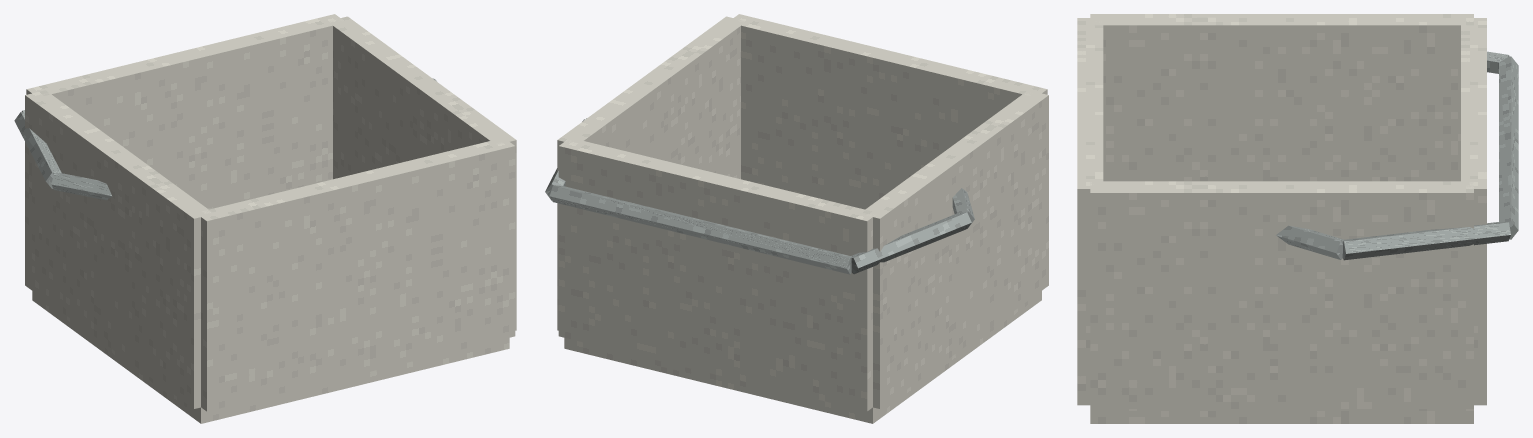
Rendered from plastic_bucket.glb.
3 views of the same model, side by side, from view 1: azimuth 30°, elevation 25°; view 2: azimuth 150°, elevation 25°; view 3: azimuth 270°, elevation 25° (orthographic). The views are drawn at different scales.
Parts seen in each view (by area): view 1: block_side wall (×2), block_end wall (×2), block_flat bottom, block_swing handle 1, block_swing handle 0; view 2: block_side wall (×2), block_end wall (×2), block_swing handle 2, block_flat bottom, block_swing handle 1; view 3: block_end wall (×2), block_side wall (×2), block_flat bottom, block_swing handle 3, block_swing handle 2, block_swing handle 4.
Boxes of the visible parts, bbox=[...] form: block_side wall (×2): bbox=[26, 14, 515, 411]; block_end wall (×2): bbox=[25, 16, 516, 408]; block_flat bottom: bbox=[32, 291, 509, 423]; block_swing handle 1: bbox=[14, 112, 61, 188]; block_swing handle 0: bbox=[51, 173, 111, 200]; block_side wall (×2): bbox=[558, 14, 1047, 411]; block_end wall (×2): bbox=[557, 16, 1048, 408]; block_swing handle 2: bbox=[549, 185, 851, 274]; block_flat bottom: bbox=[564, 291, 1041, 423]; block_swing handle 1: bbox=[850, 212, 971, 274]; block_end wall (×2): bbox=[1090, 14, 1473, 408]; block_side wall (×2): bbox=[1077, 18, 1486, 405]; block_flat bottom: bbox=[1090, 409, 1473, 423]; block_swing handle 3: bbox=[1342, 222, 1510, 260]; block_swing handle 2: bbox=[1499, 56, 1518, 239]; block_swing handle 4: bbox=[1276, 225, 1343, 259].
Size of the model in its own units: 0.3104 by 0.1558 by 0.2652.
1 material, 1 textured.
